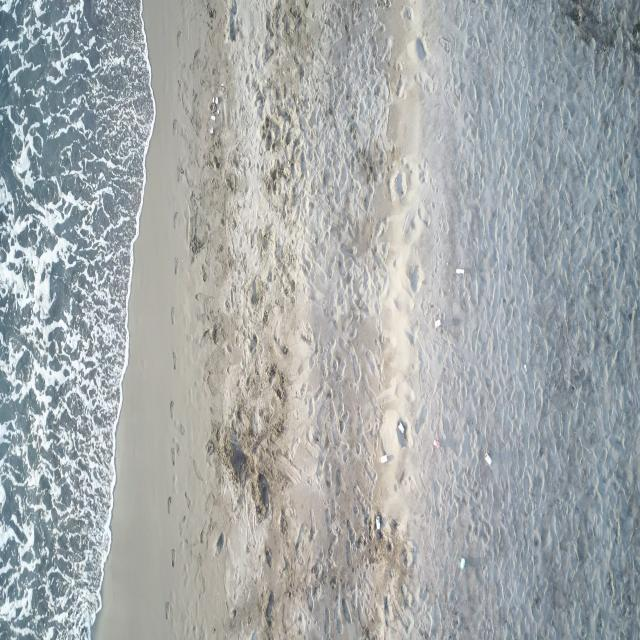tin-and-aluminum-cans: (484, 452, 492, 466), (375, 516, 382, 532), (398, 421, 406, 434), (433, 439, 440, 449), (381, 454, 388, 464), (434, 320, 441, 330), (460, 558, 466, 569), (456, 269, 466, 275)
